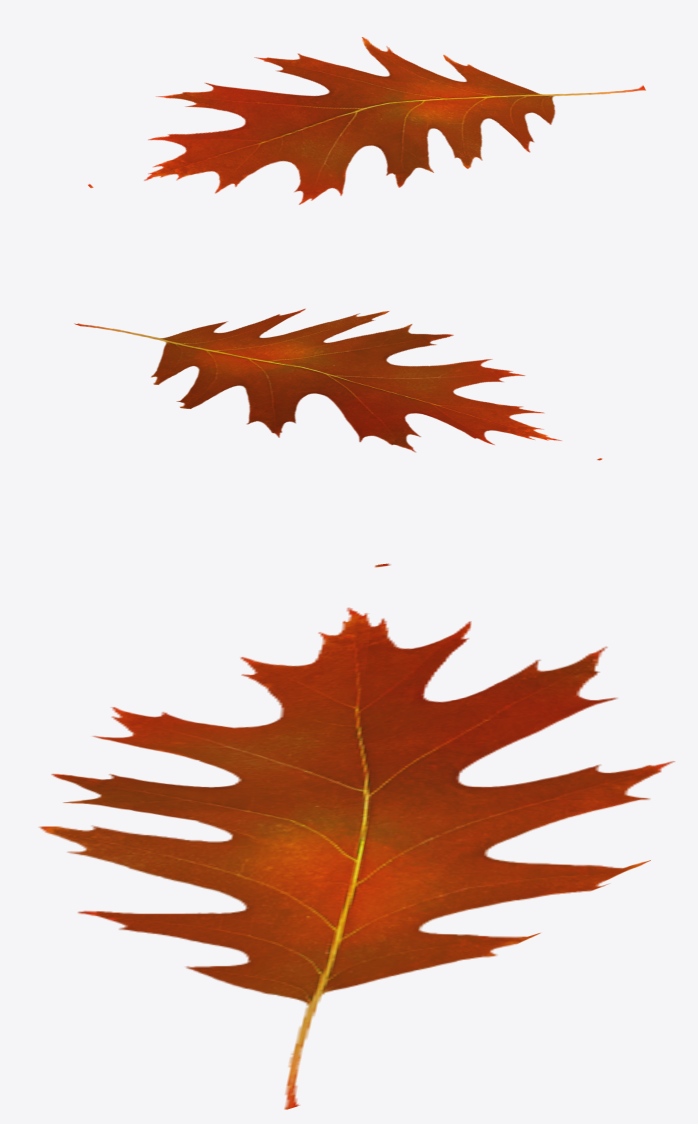
File: realistic_hd_red_oak_leaf_litter_3436.glb
The picture shows the model from 3 angles, top to bottom: view 1: azimuth 30°, elevation 25°; view 2: azimuth 150°, elevation 25°; view 3: azimuth 270°, elevation 25°; orthographic projection. The views are drawn at different scales.
Visible parts, largest first — view 1: Quercus_rubra_leaf_litter_HD_V2; view 2: Quercus_rubra_leaf_litter_HD_V2; view 3: Quercus_rubra_leaf_litter_HD_V2.
Part boxes in pixels (<box>): Quercus_rubra_leaf_litter_HD_V2: <box>88,37,645,204</box>; Quercus_rubra_leaf_litter_HD_V2: <box>74,308,602,460</box>; Quercus_rubra_leaf_litter_HD_V2: <box>39,563,674,1109</box>.
Bounding box in the file's own units: 0.2002 × 0.0134 × 0.1074.
Materials: 1 (1 with a texture image).
